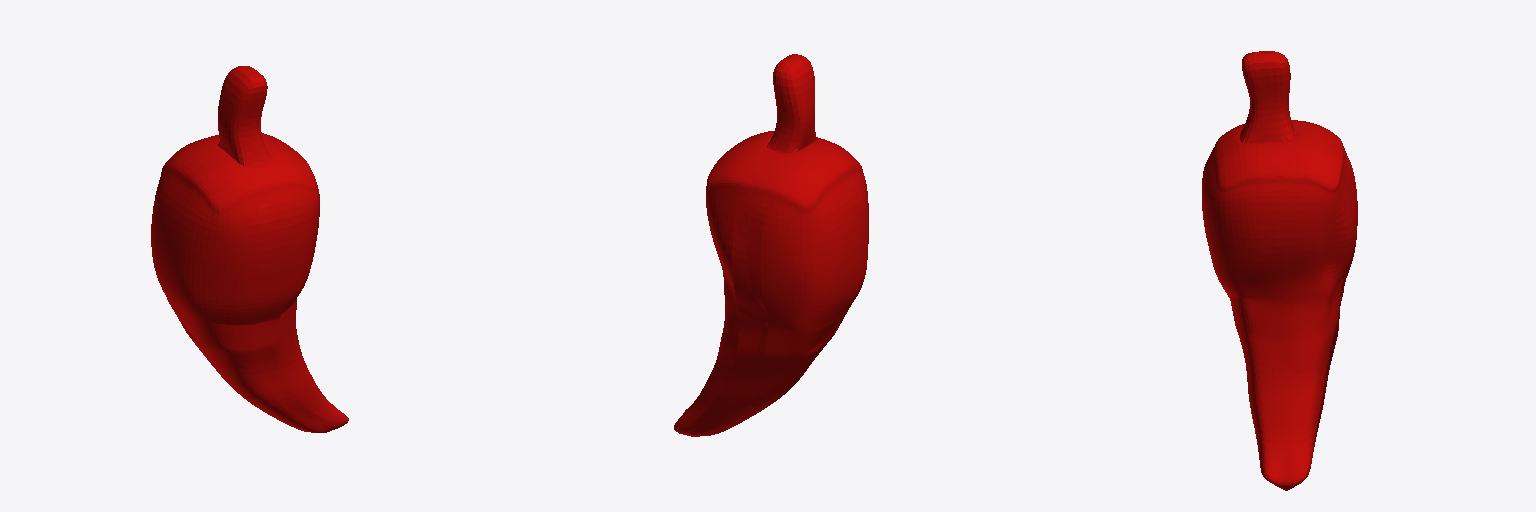
Rendered from pepper_DONOTUSE.obj.
3 views of the same model, side by side, from view 1: azimuth 30°, elevation 25°; view 2: azimuth 150°, elevation 25°; view 3: azimuth 270°, elevation 25° (orthographic).
Parts seen in each view (by area): view 1: Roundcube.001; view 2: Roundcube.001; view 3: Roundcube.001.
Part boxes in pixels (bbox=[...]): Roundcube.001: bbox=[151, 66, 348, 432]; Roundcube.001: bbox=[674, 54, 868, 436]; Roundcube.001: bbox=[1202, 51, 1357, 490].
Bounding box in the file's own units: 2.44 × 5.16 × 1.86.